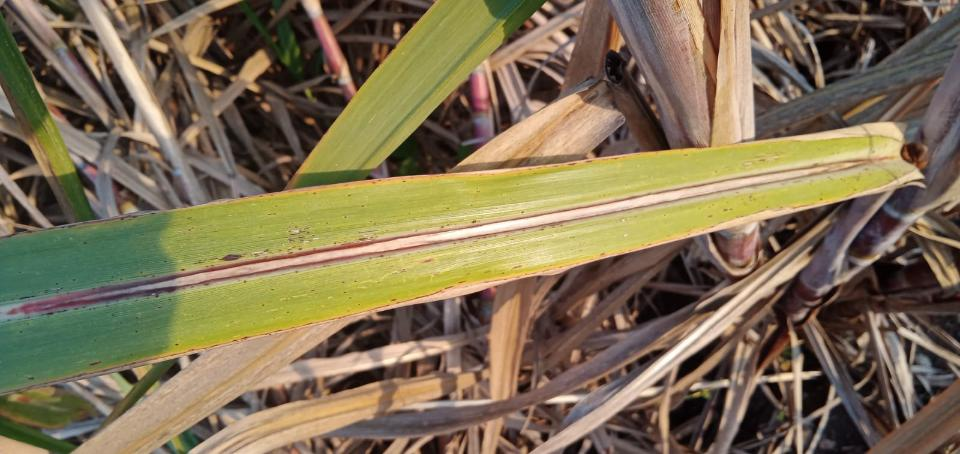RedRot: (6, 158, 894, 316), (415, 257, 438, 266)
Rust: (180, 222, 378, 273), (0, 281, 164, 330), (433, 183, 528, 230), (447, 223, 577, 257), (779, 166, 878, 202), (692, 186, 775, 223), (254, 286, 317, 320), (336, 278, 367, 315)
